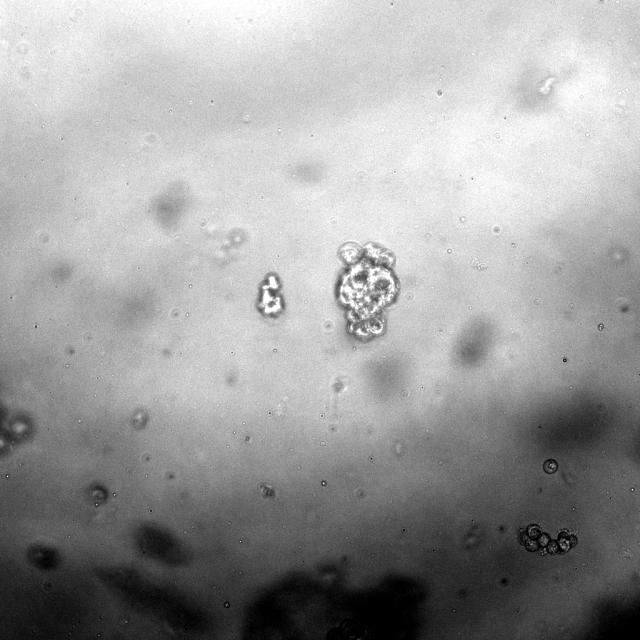organoid: (335, 241, 399, 341), (519, 524, 577, 554), (256, 272, 284, 318), (543, 458, 558, 473)
